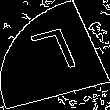L_S: (26, 26, 84, 84)
